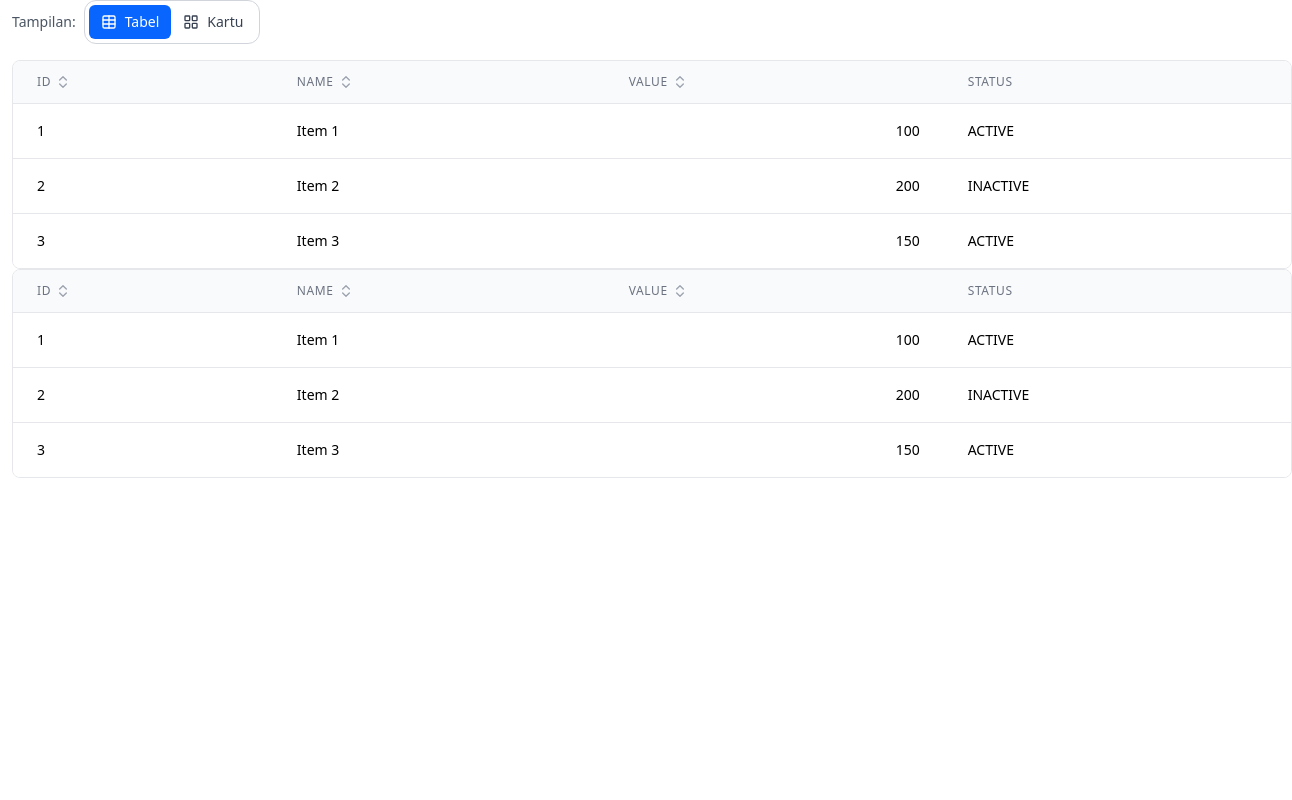
Test: ResponsiveDataTable › switches to card view when toggle clicked
Click the button with aria-label "Card view".
click(213, 22)  # box [171,5,255,39]
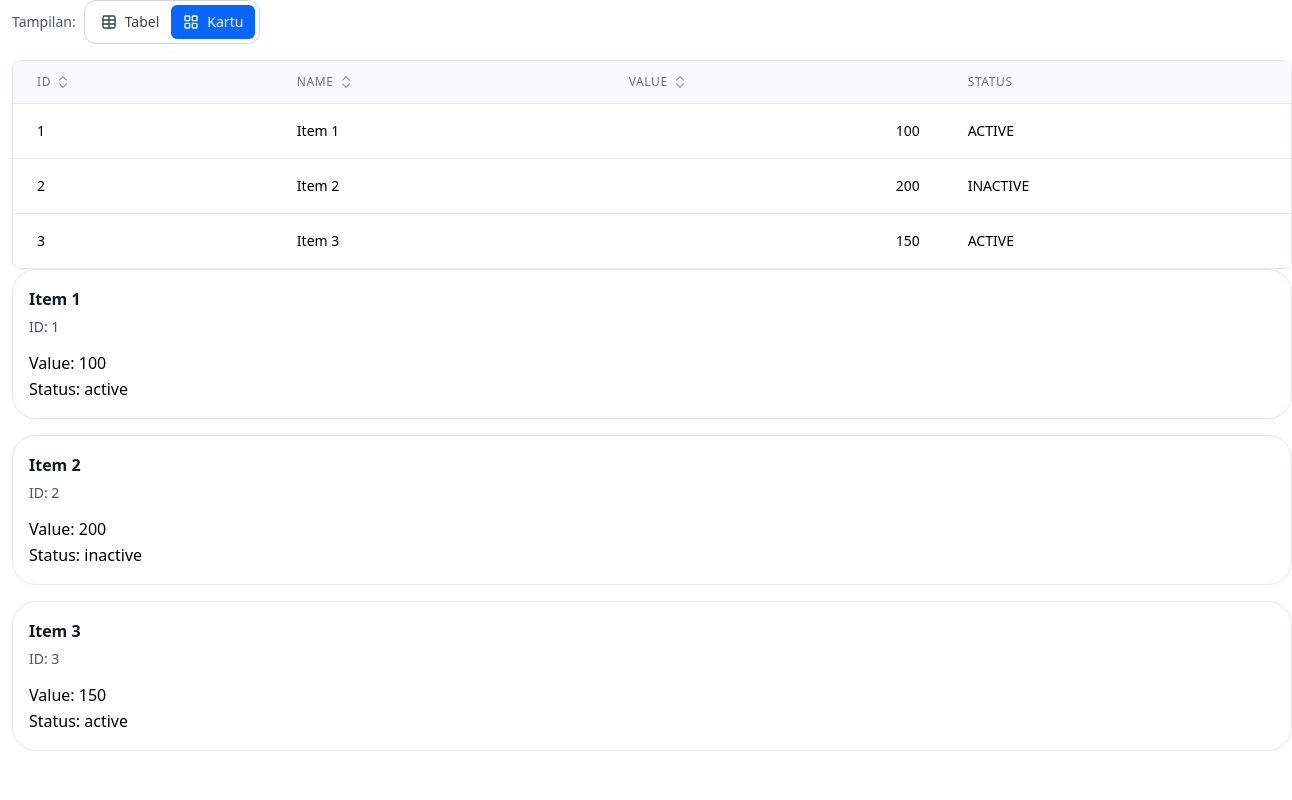
Expected: the text "ID: 1" is shown, [29,317,59,336]
Expected: the text "ID: 2" is shown, [29,483,59,502]
